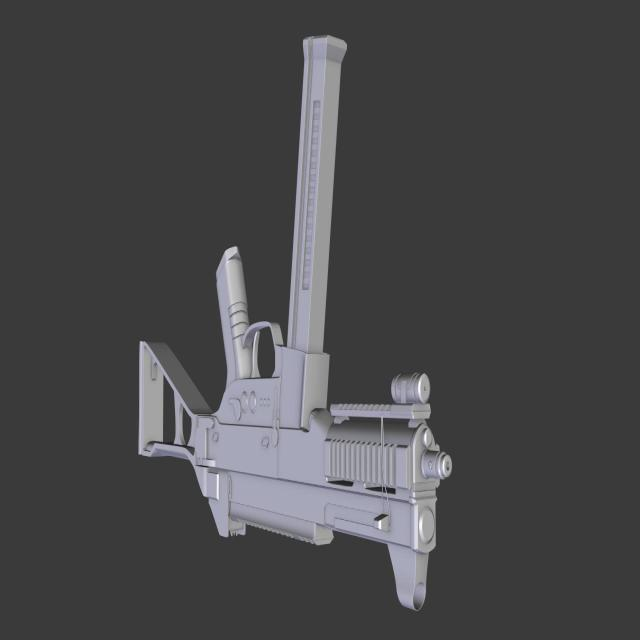Gun: (93, 6, 507, 640)
